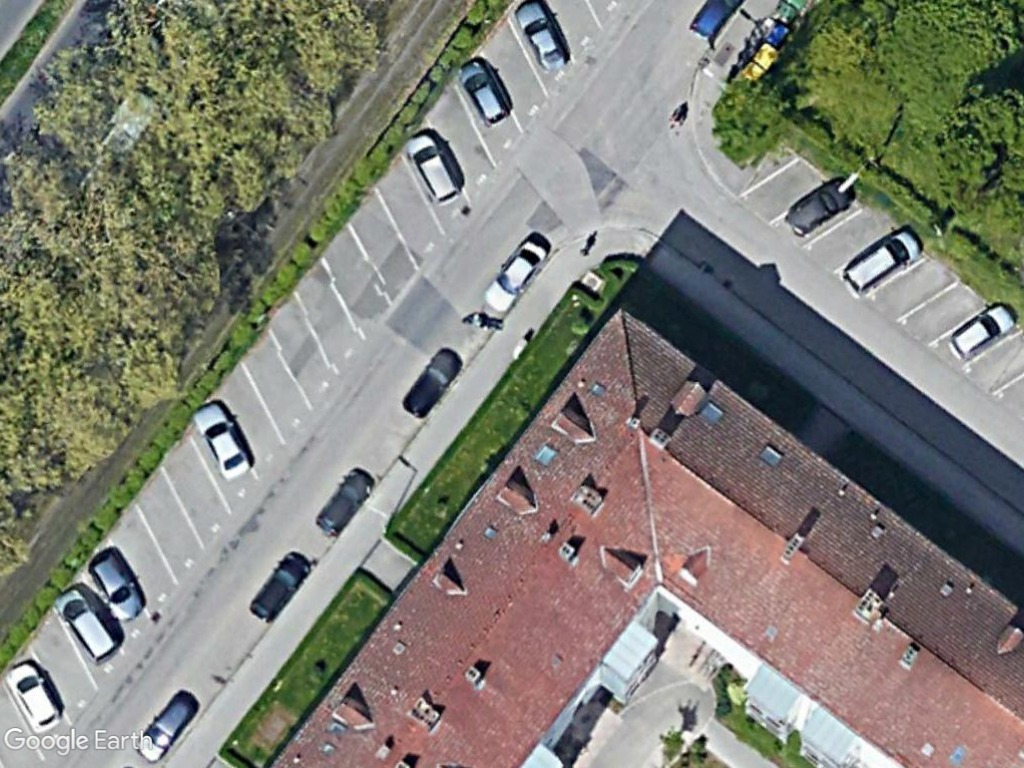car: (839, 228, 925, 298), (480, 236, 551, 314), (188, 400, 255, 482), (51, 585, 121, 663), (132, 688, 200, 764), (779, 176, 856, 242), (398, 345, 465, 420), (312, 466, 375, 541), (248, 551, 311, 625), (2, 662, 64, 737), (405, 131, 463, 208), (88, 550, 147, 624), (944, 303, 1015, 364), (510, 0, 570, 72), (456, 57, 512, 129)
